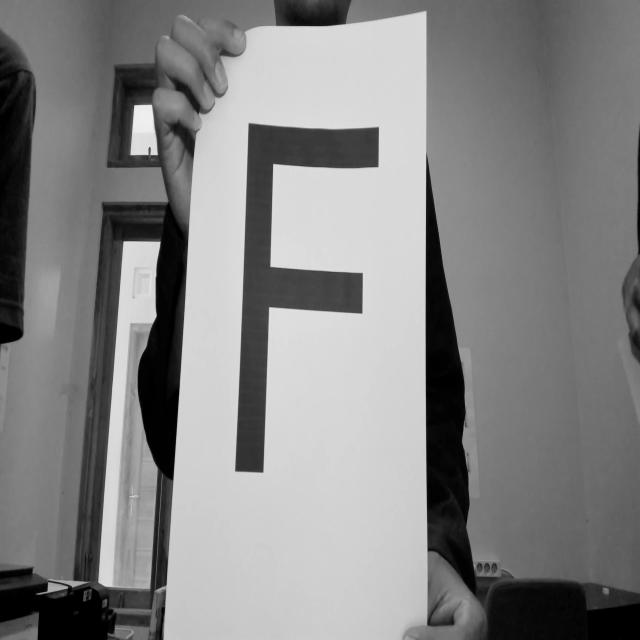f: (221, 92, 391, 496)
